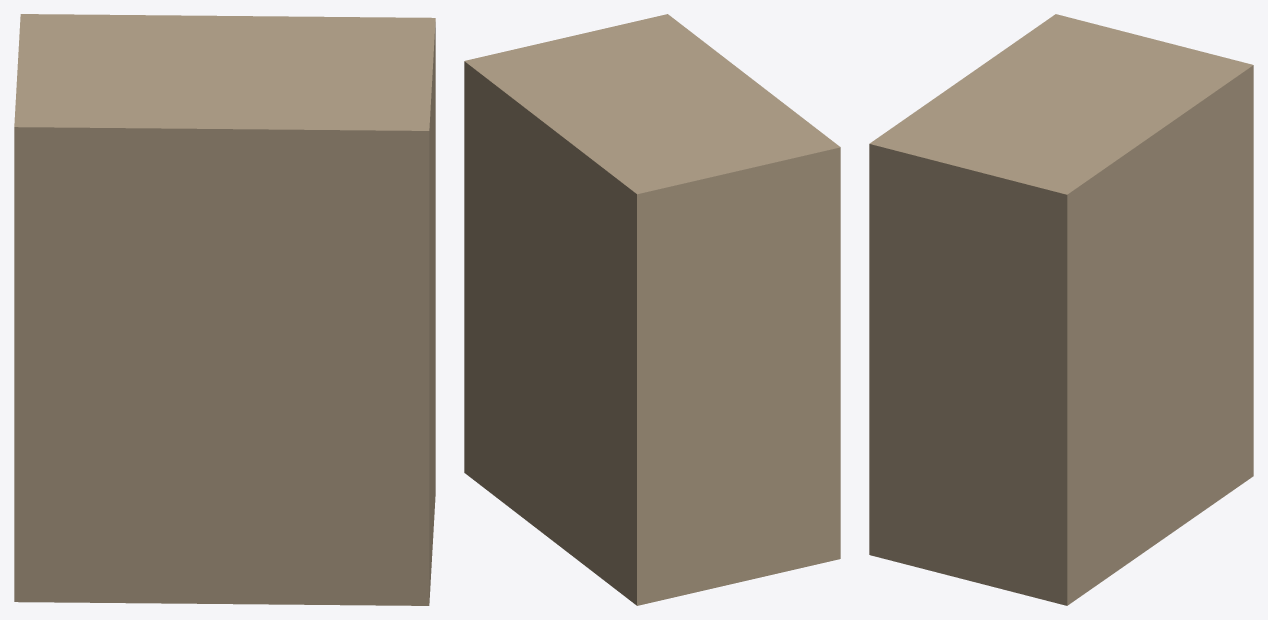
Rendered from bld_101791607.dae.
The picture shows the model from 3 angles, left to right: view 1: azimuth 30°, elevation 25°; view 2: azimuth 150°, elevation 25°; view 3: azimuth 270°, elevation 25°; orthographic projection. The views are drawn at different scales.
Visible parts, largest first — view 1: bld_101791607; view 2: bld_101791607; view 3: bld_101791607.
Boxes of the visible parts, x1,y1,x2,y2 form: bld_101791607: (14, 14, 435, 605); bld_101791607: (464, 14, 840, 605); bld_101791607: (869, 14, 1253, 605).
Bounding box in the file's own units: 7.54 × 6.78 × 8.
